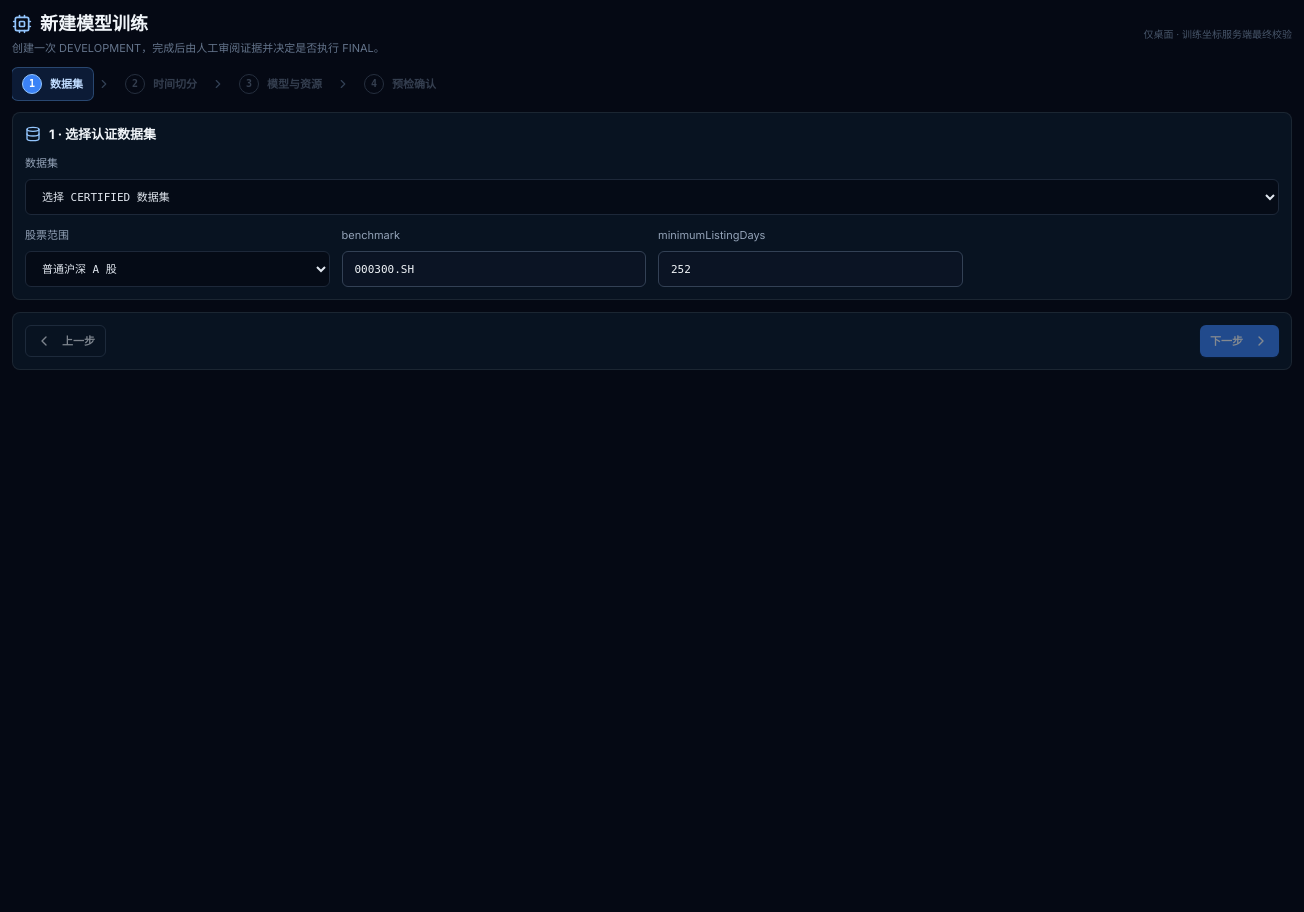
Scenario: StockSelectionTrainingWizard › shows client-side bounds before preview and preserves the wizard step
Select "certified-v1 · 2020-01-01 → 2025-12-31" in the dropdown named "训练数据集". click: coordinates (652, 197)
box: [25,179,1279,215]
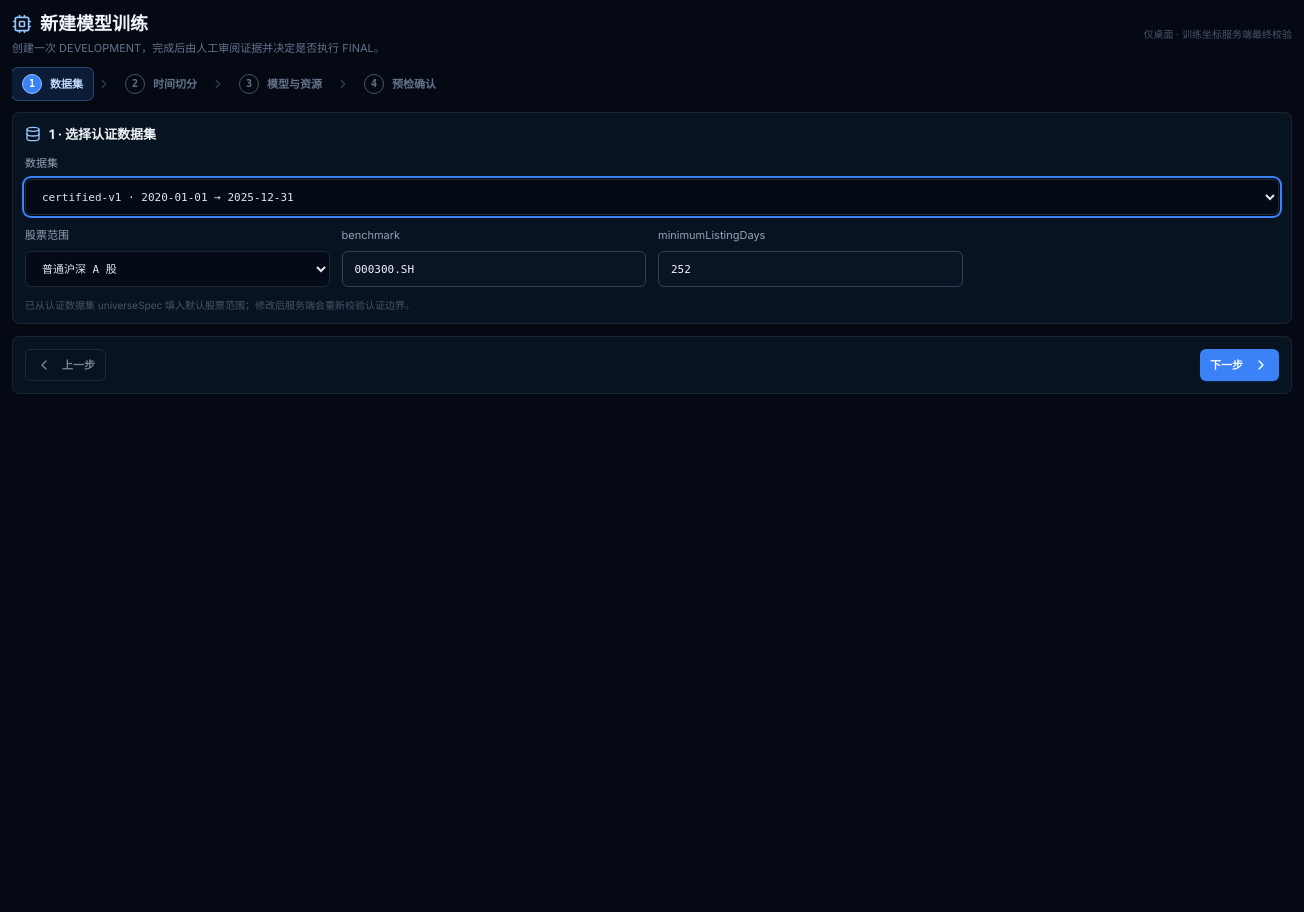
Click the button "下一步". click: coordinates (1240, 365)
box: [1200,349,1279,381]
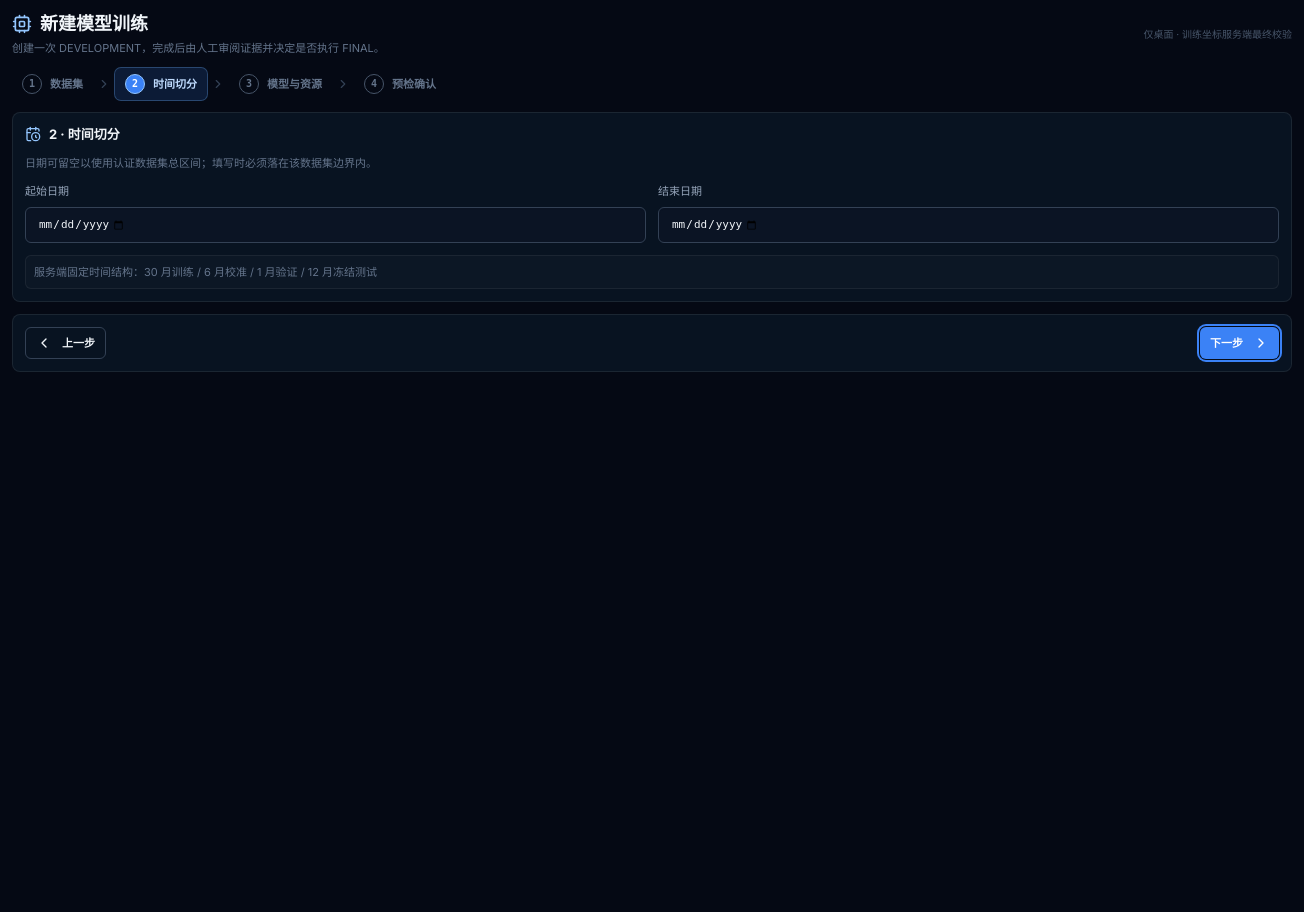
Click the button "下一步". click: coordinates (1240, 343)
box: [1200,327,1279,359]
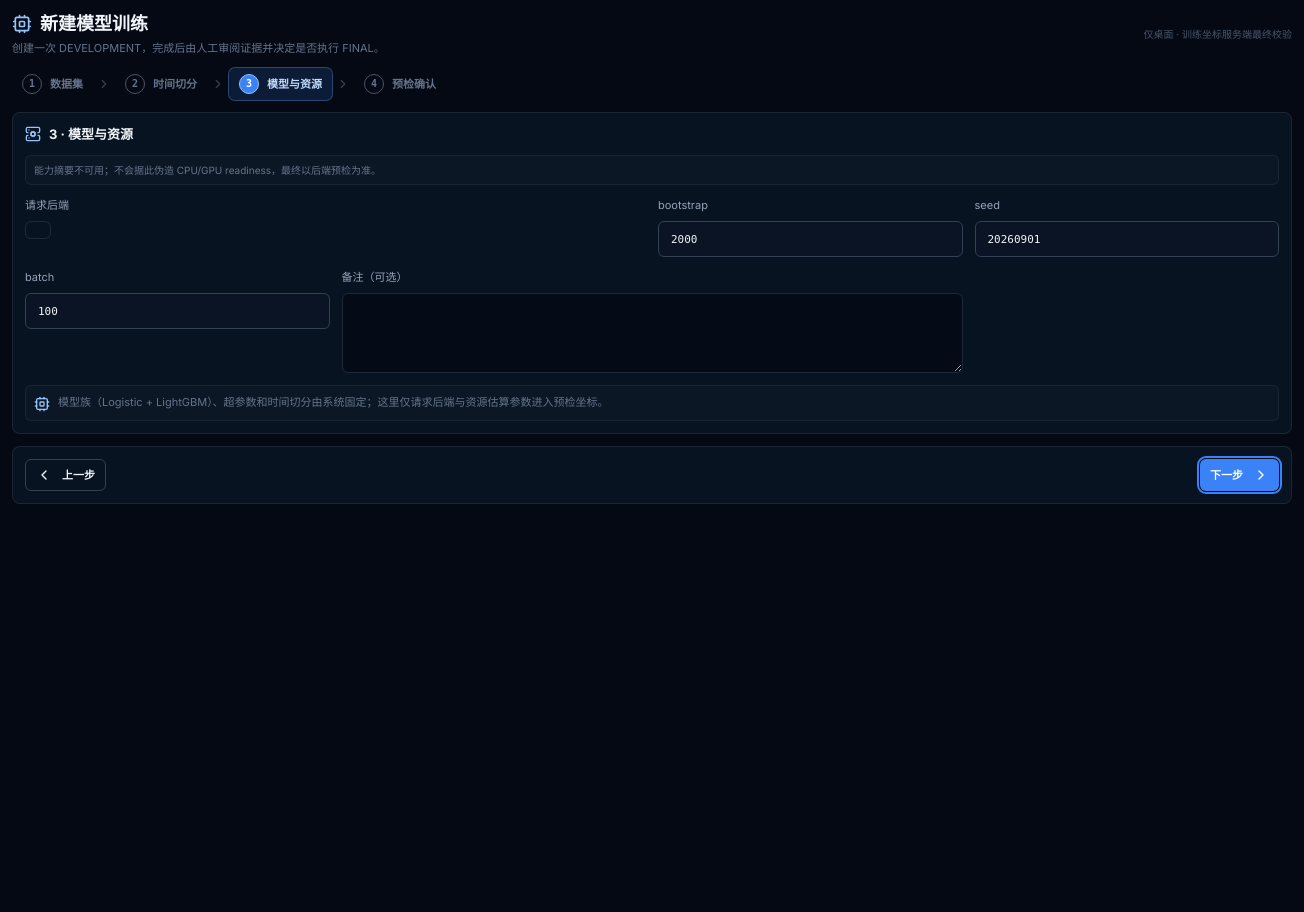
Replace the text in the number field named "Bootstrap 样本数" with "99". click: coordinates (810, 239)
box: [658,221,962,257]
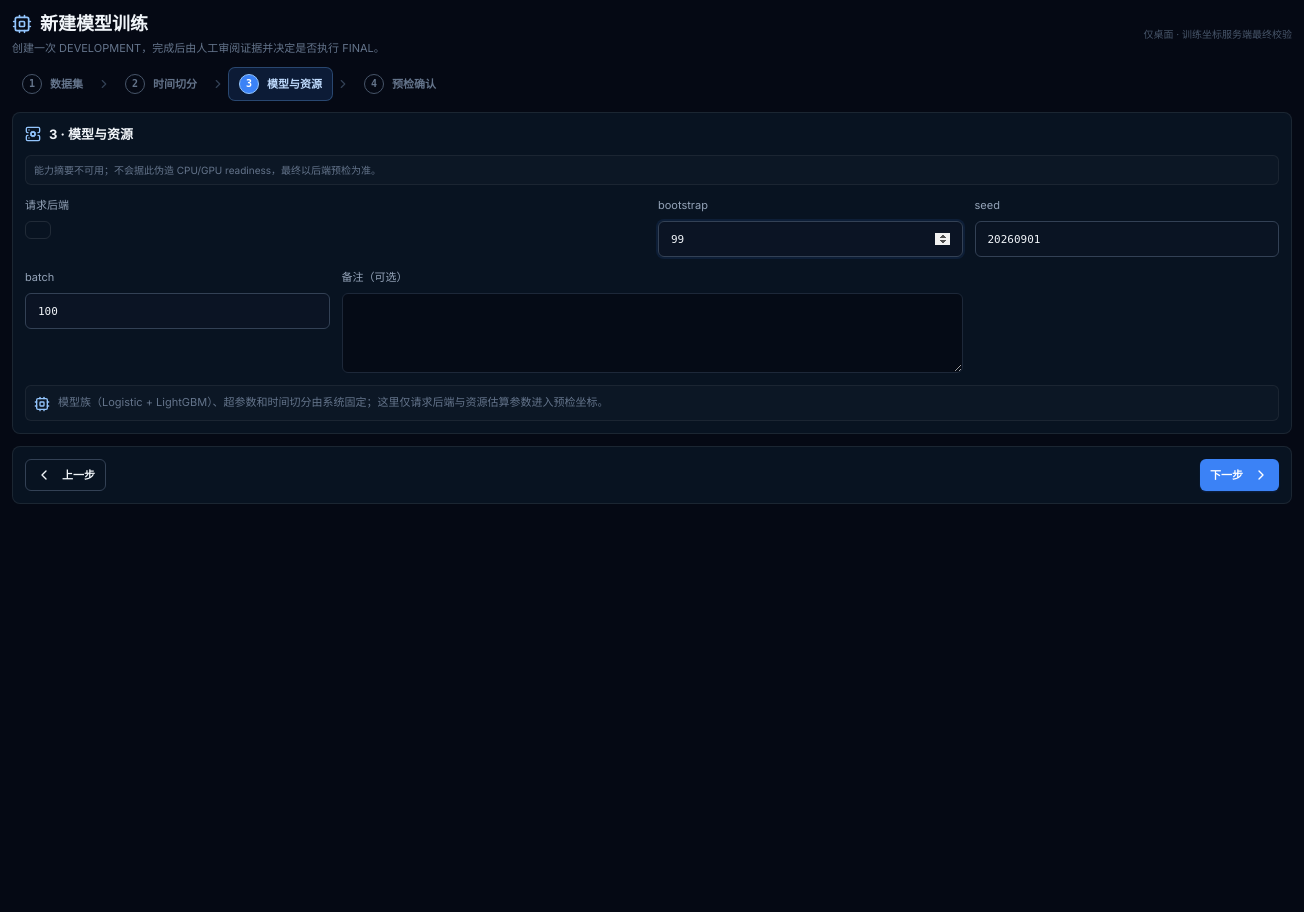
Click the button "下一步". click: coordinates (1240, 475)
box: [1200,459,1279,491]
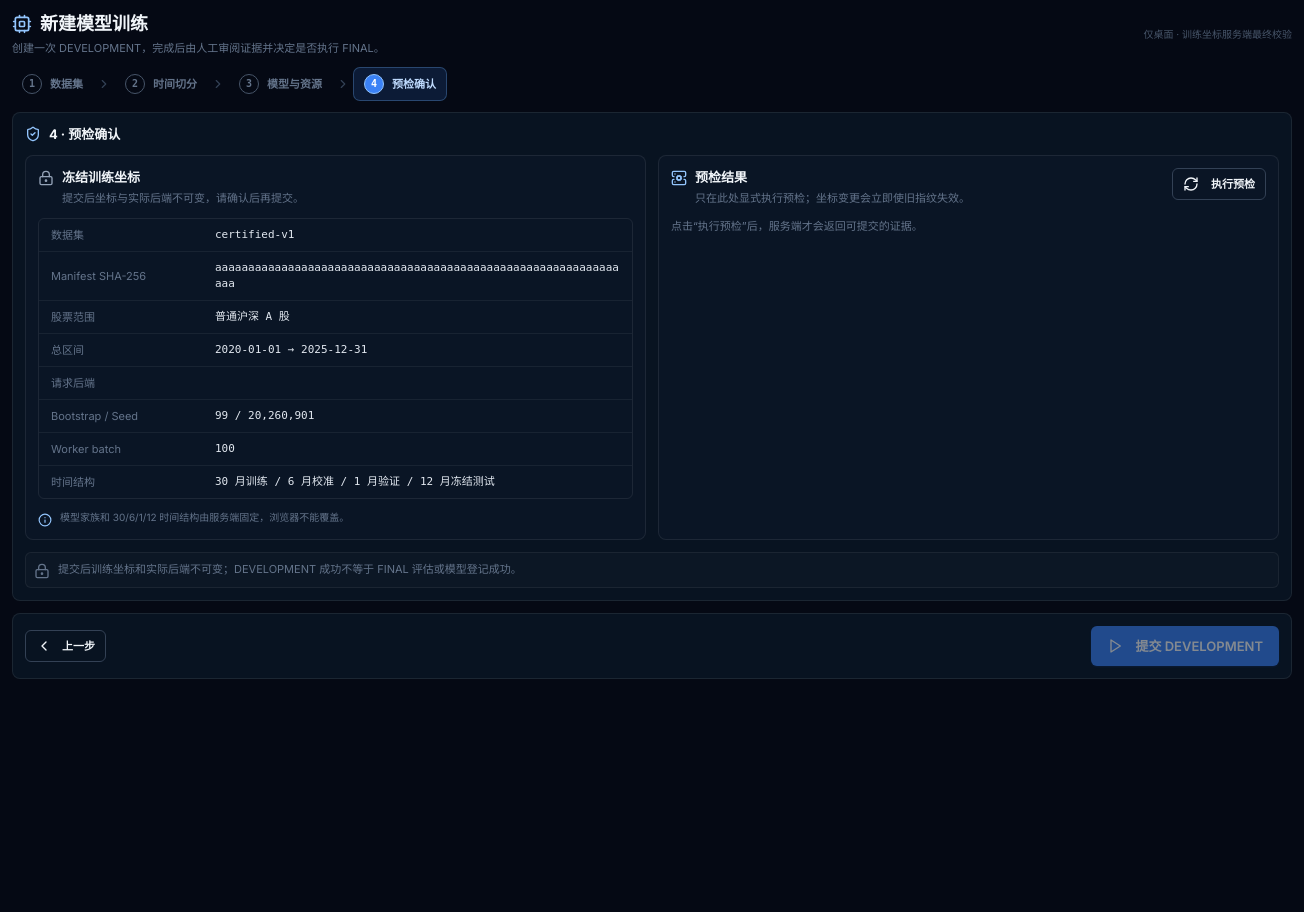
Click the button "执行预检". click: coordinates (1219, 184)
box: [1172,168,1266,200]
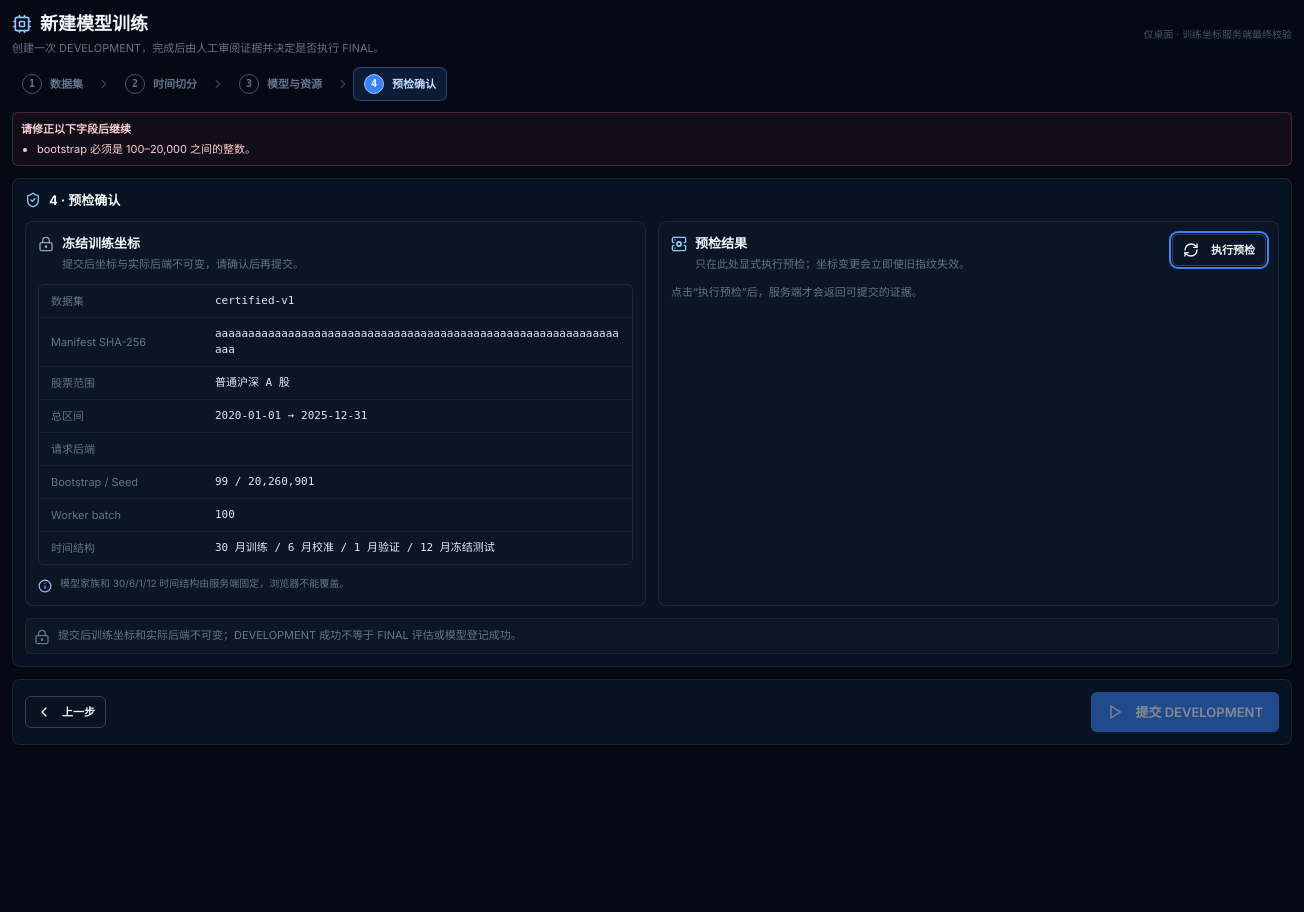
Result: the element with test id "training-step-preflight" is shown at [25,191,1279,654]
Result: the message with test id "training-validation-errors" shows "bootstrap 必须是 100–20,000 之间的整数。" at [37,142,256,156]
